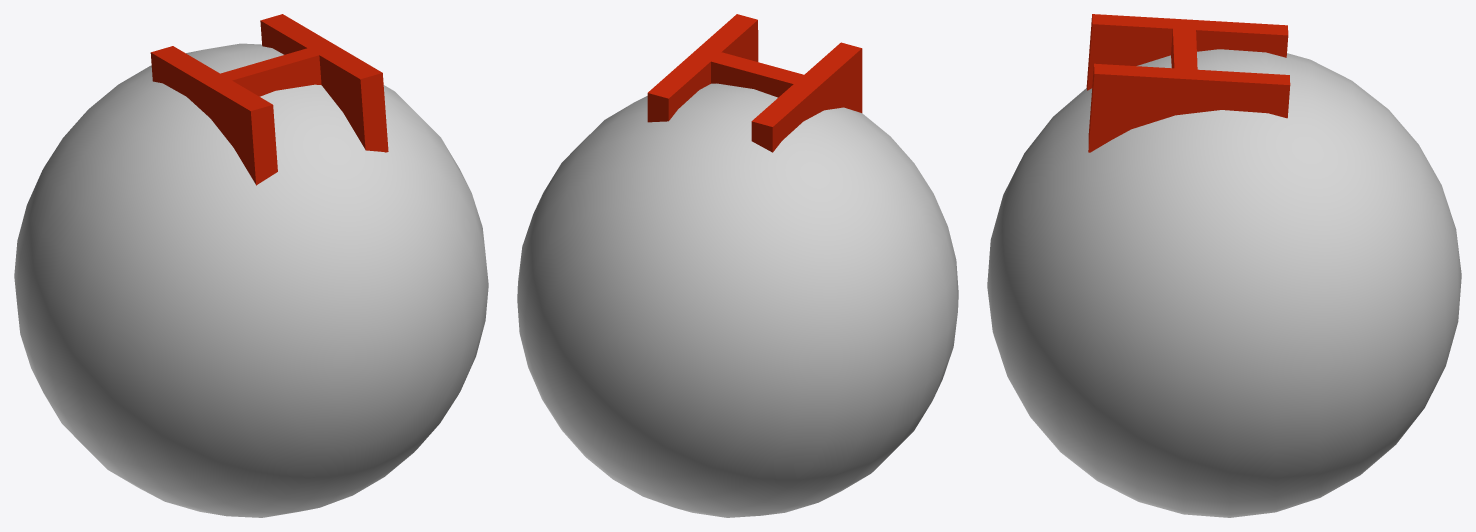
Rendered from Hidrogeno.FBX.
3 views of the same model, side by side, from view 1: azimuth 30°, elevation 25°; view 2: azimuth 150°, elevation 25°; view 3: azimuth 270°, elevation 25° (orthographic). The views are drawn at different scales.
Parts seen in each view (by area): view 1: H; view 2: H; view 3: H.
Boxes of the visible parts, bbox=[...] form: H: bbox=[14, 14, 488, 517]; H: bbox=[517, 14, 958, 517]; H: bbox=[987, 14, 1461, 517].
Bounding box in the file's own units: 38.74 × 40.92 × 38.74.
